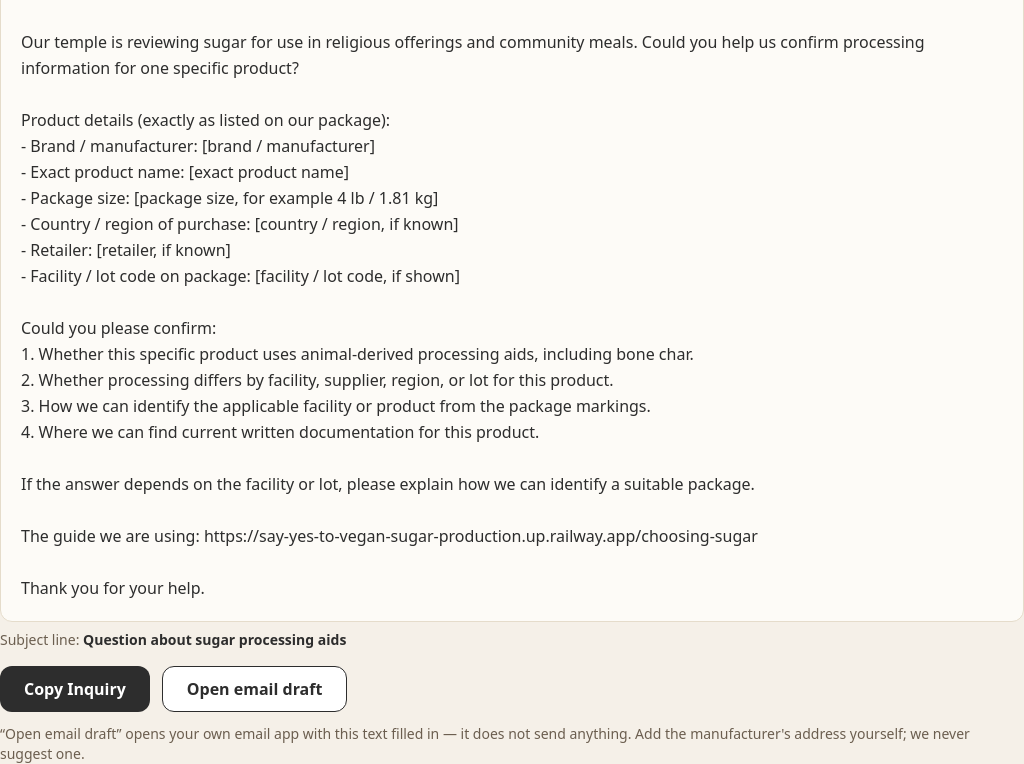
Scenario: inquiry builder › announces copy success
The width and height of the screenshot is (1024, 764).
(page scrolled)
Click the button "Copy Inquiry": coordinates (75, 688) [0, 666, 150, 712]
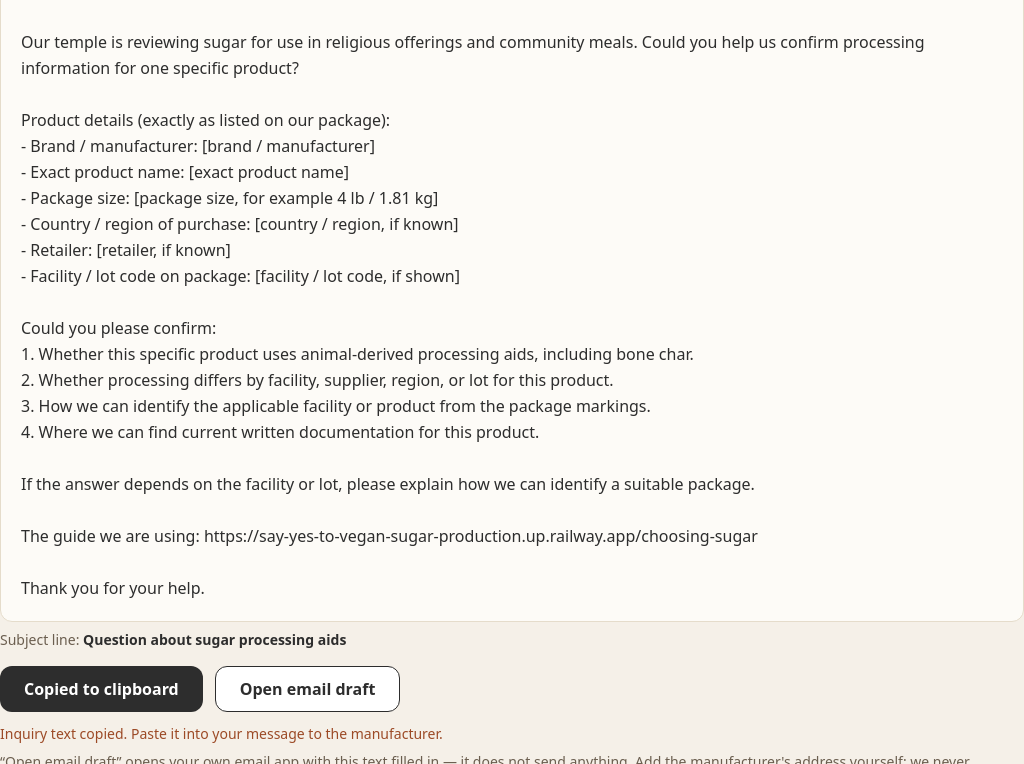
Expected: the text "Inquiry text copied. Paste it into your message to the manufacturer." is shown, [0, 724, 443, 742]
